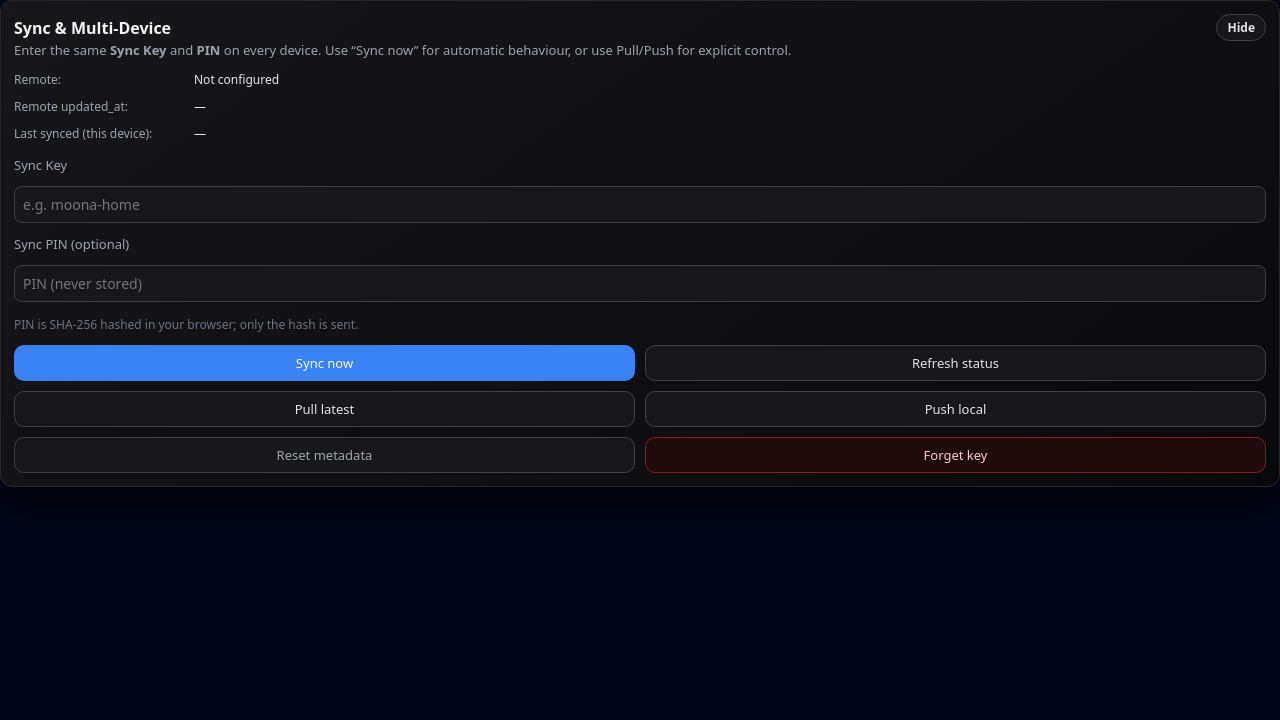
Test: SyncSection - no remote configured (stub adapter) › requires a sync key before syncing
This screenshot has width=1280, height=720.
Click the button "Sync now".
click(324, 363)  # box [14,345,635,381]
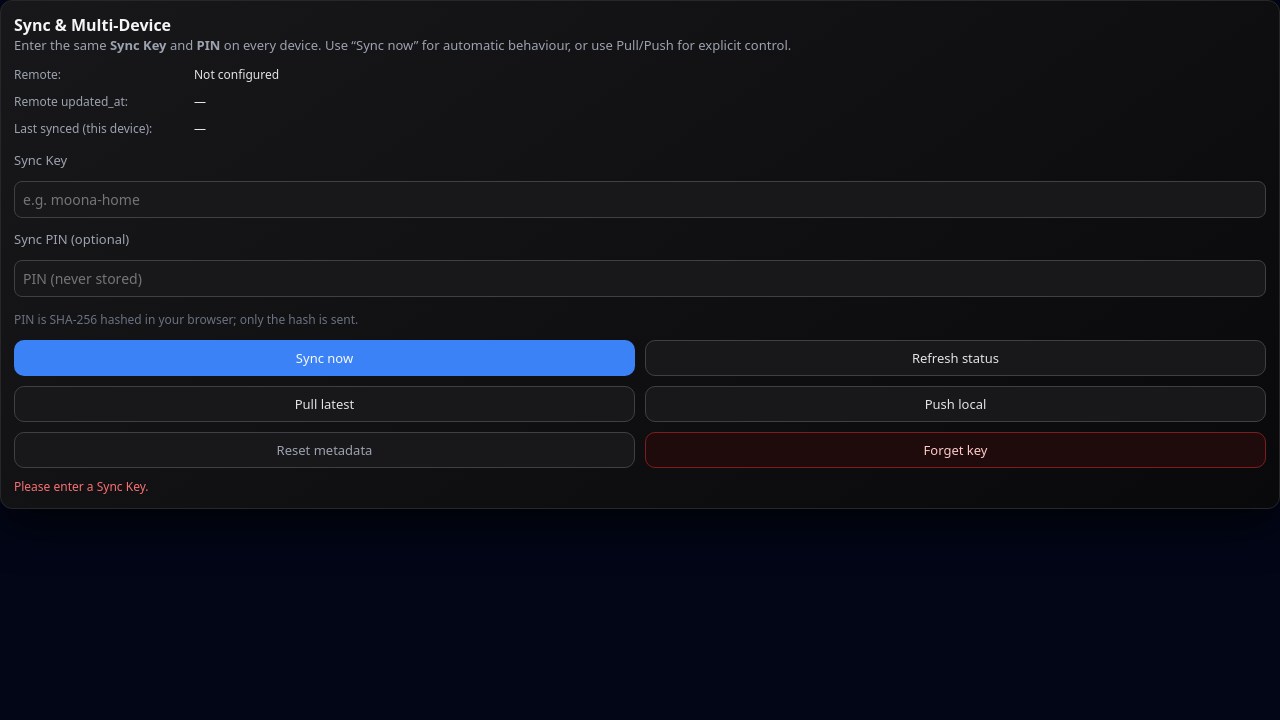
Expected: the text "Please enter a Sync Key." is shown, [14,478,148,495]
